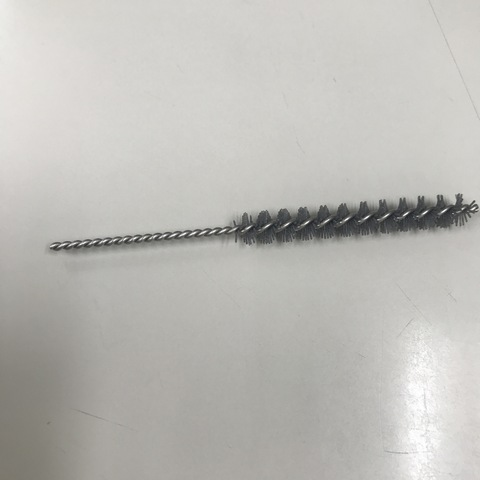Twist Brush-A: (48, 191, 479, 259)
